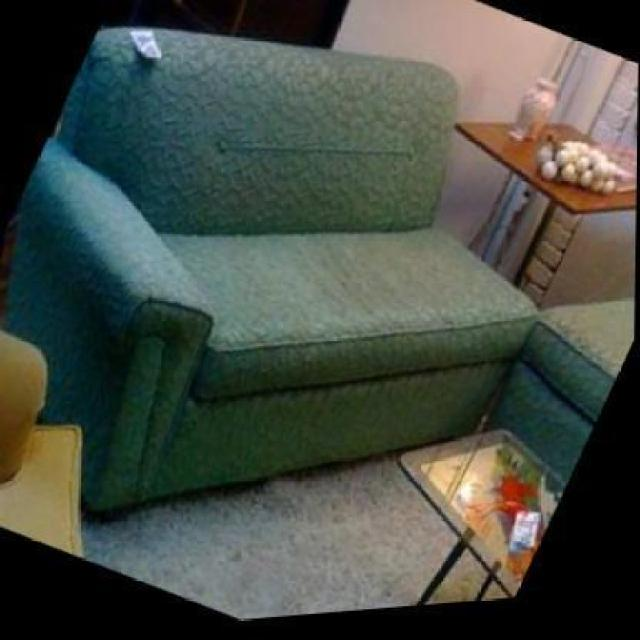tables: (454, 118, 635, 310)
